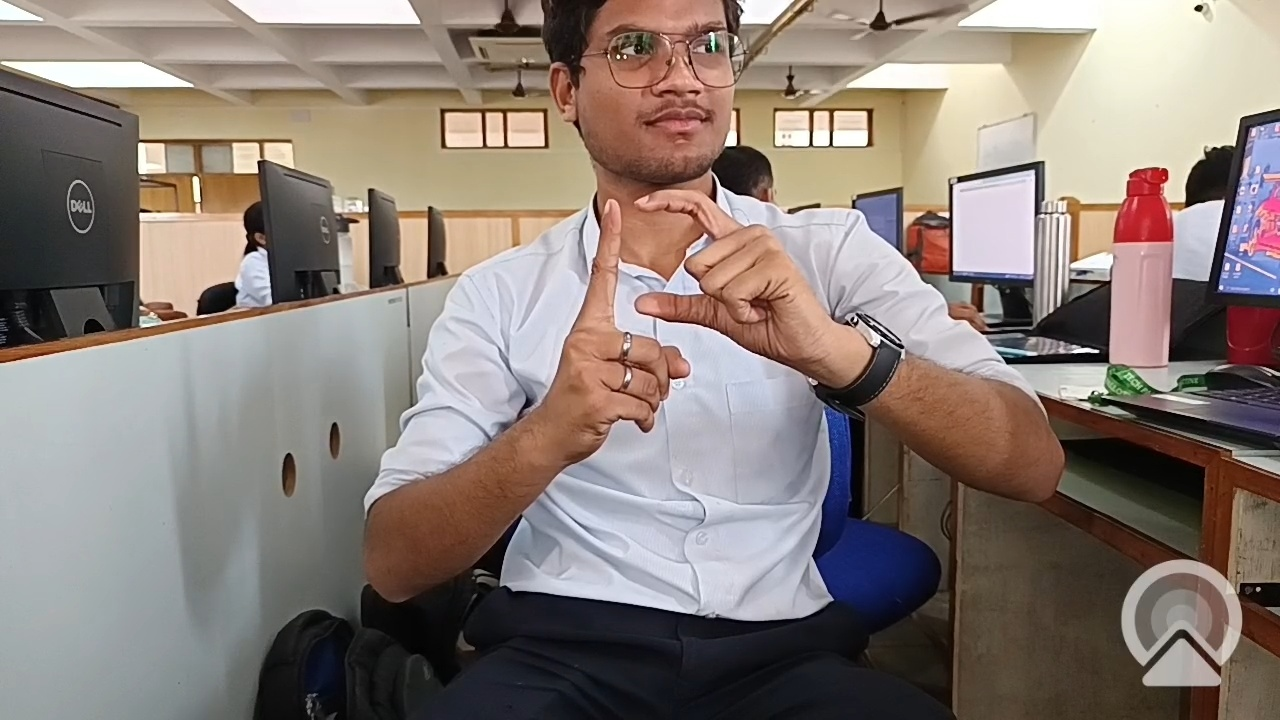D: (481, 188, 857, 447)
